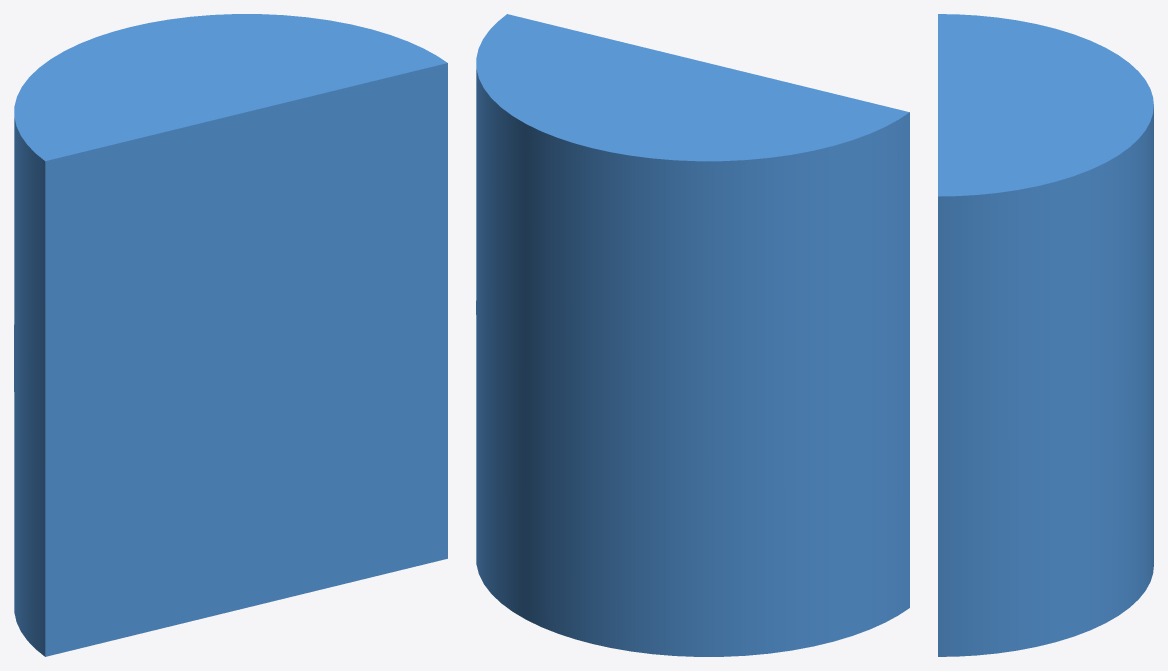
Rendered from new_water.fbx.
The picture shows the model from 3 angles, left to right: view 1: azimuth 30°, elevation 25°; view 2: azimuth 150°, elevation 25°; view 3: azimuth 270°, elevation 25°; orthographic projection. The views are drawn at different scales.
Parts seen in each view (by area): view 1: Water; view 2: Water; view 3: Water.
Part boxes in pixels (bbox=[...]): Water: bbox=[14, 14, 447, 656]; Water: bbox=[476, 14, 909, 656]; Water: bbox=[938, 14, 1153, 656].
Size of the model in its own units: 17.03 by 20.03 by 8.51.
